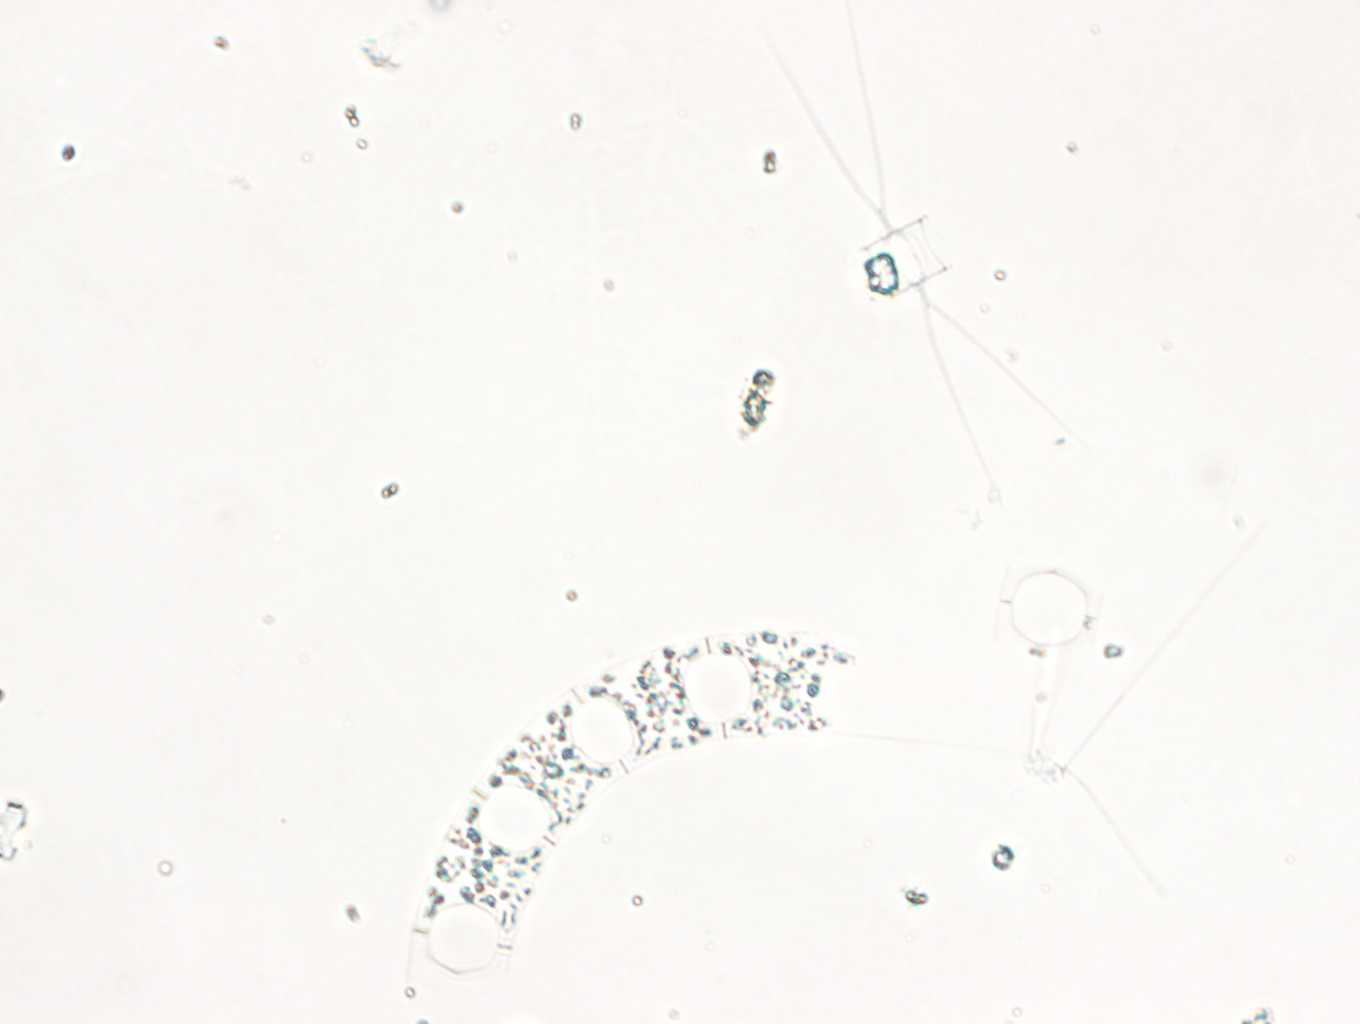chaetoceros: (778, 1, 1080, 480)
eucampia: (409, 628, 849, 984)
